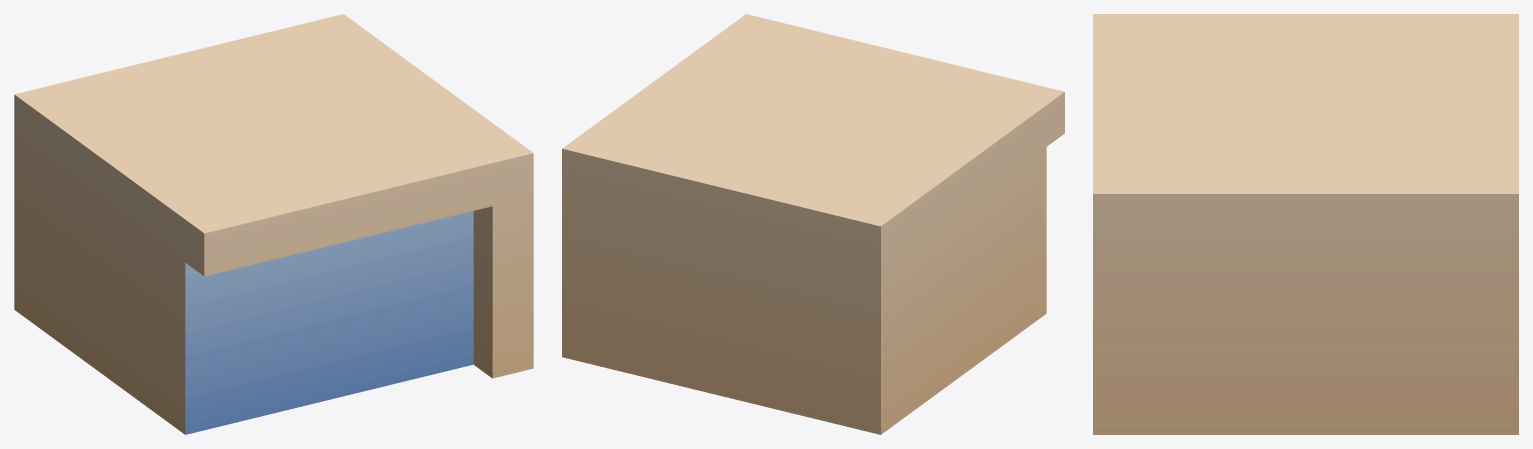
The model's file is building-window-large-right.glb.
The picture shows the model from 3 angles, left to right: view 1: azimuth 30°, elevation 25°; view 2: azimuth 150°, elevation 25°; view 3: azimuth 270°, elevation 25°; orthographic projection. The views are drawn at different scales.
Parts seen in each view (by area): view 1: building-window-large-right; view 2: building-window-large-right; view 3: building-window-large-right.
Boxes of the visible parts, x1,y1,x2,y2 form: building-window-large-right: (14,14,533,434); building-window-large-right: (562,14,1064,434); building-window-large-right: (1093,14,1518,434).
Size of the model in its own units: 1 by 0.625 by 1.
Materials: 1 (1 with a texture image).
